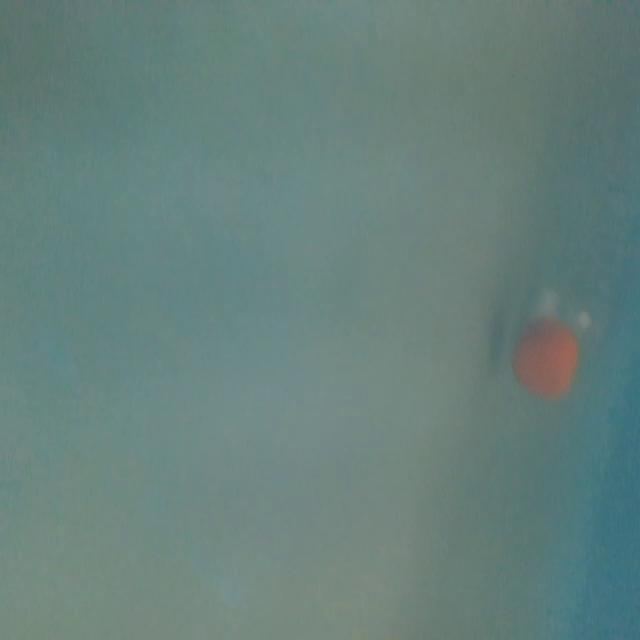plastic bottle: (506, 140, 640, 410)
